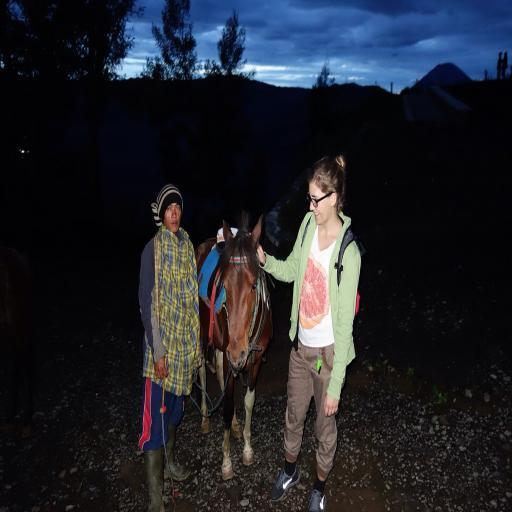horse: (197, 214, 274, 480)
